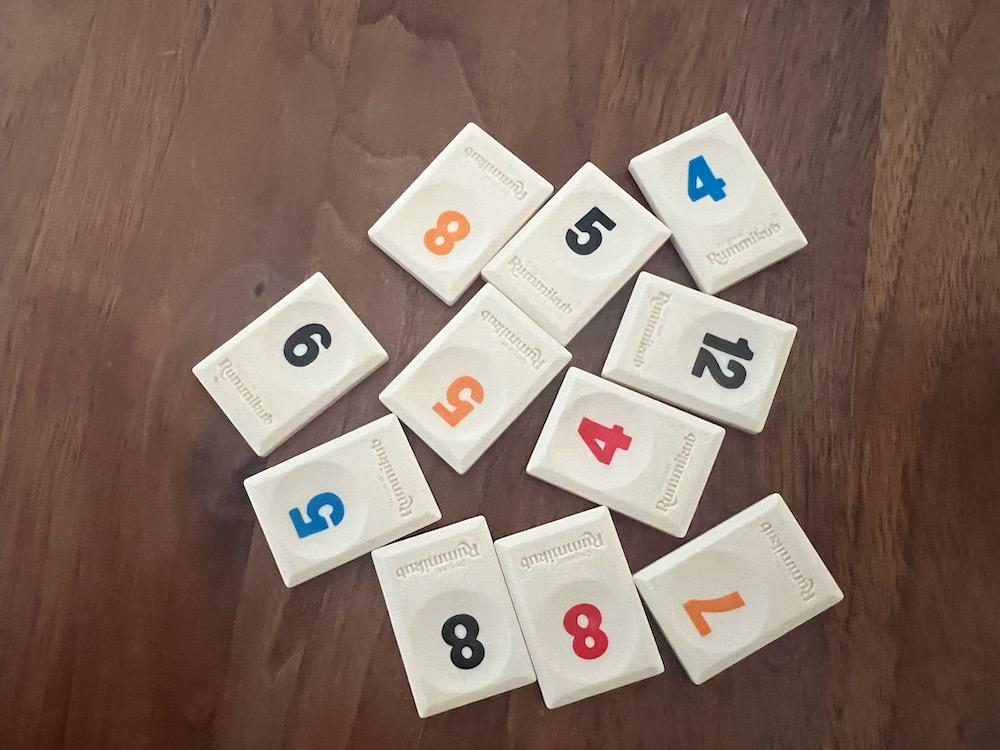black_12: (602, 271, 797, 434)
black_5: (482, 162, 670, 346)
black_6: (195, 273, 387, 457)
black_8: (373, 516, 535, 717)
blue_4: (631, 113, 807, 295)
blue_5: (244, 414, 441, 588)
orange_5: (381, 283, 570, 475)
orange_7: (633, 494, 844, 684)
orange_8: (369, 123, 553, 305)
red_4: (527, 367, 725, 537)
red_8: (496, 506, 664, 709)
